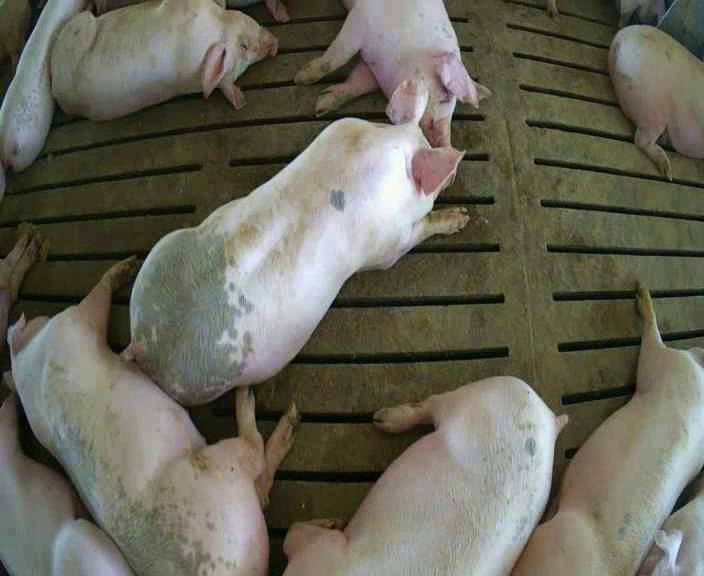pig: (127, 80, 467, 404), (4, 259, 295, 573), (284, 376, 565, 573), (513, 288, 703, 574), (294, 2, 489, 146), (50, 1, 277, 119), (608, 25, 703, 179), (0, 2, 85, 170)
